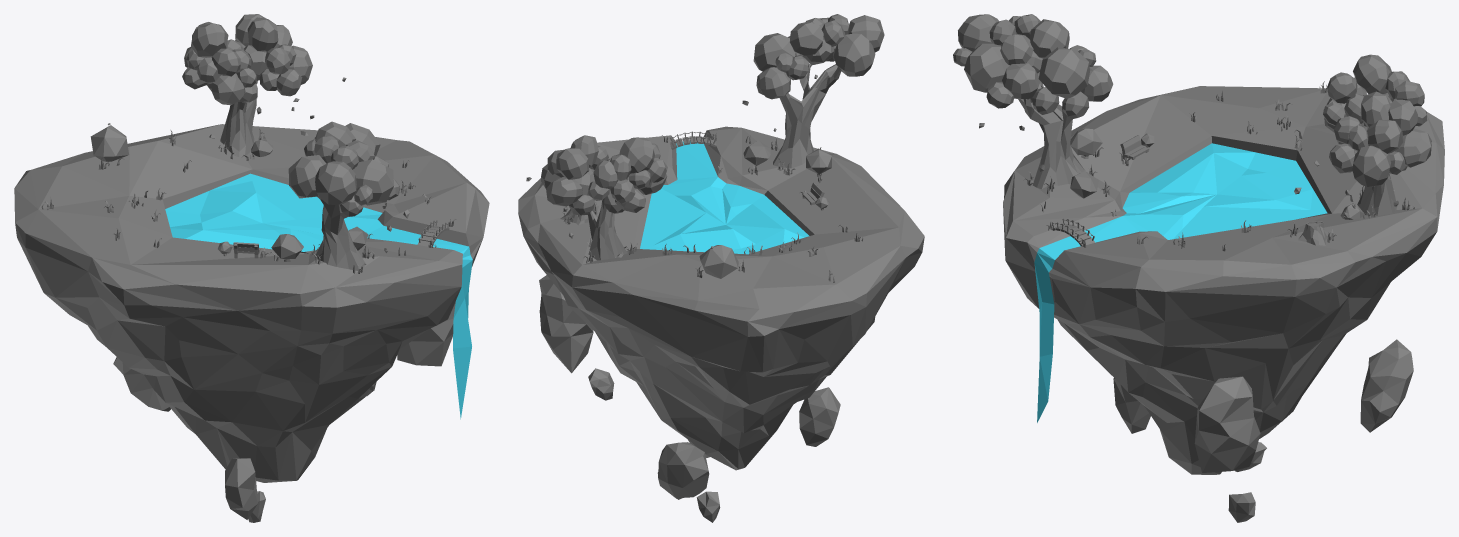
3 views of the same model, side by side, from view 1: azimuth 30°, elevation 25°; view 2: azimuth 150°, elevation 25°; view 3: azimuth 270°, elevation 25° (orthographic). The views are drawn at different scales.
Visible parts, largest first — view 1: polySurface1, polySurface93, tree_lowpoly2:pCylinder2 tree_lowpoly2:group1, pCube2, pCube1, tree_lowpoly2:tree_1 tree_lowpoly2:pCylinder1, tree_lowpoly2:group1 tree_lowpoly2:polySurface65, tree_lowpoly2:group1 tree_lowpoly2:polySurface69, tree_lowpoly2:group1 tree_lowpoly2:polySurface66, pCube3, kust, tree_lowpoly2:tree_1 tree_lowpoly2:polySurface34 (+7 smaller); view 2: polySurface1, polySurface93, pCube2, tree_lowpoly2:pCylinder2 tree_lowpoly2:group1, pCube3, pCube1, tree_lowpoly2:tree_1 tree_lowpoly2:pCylinder1, tree_lowpoly2:group1 tree_lowpoly2:polySurface66, tree_lowpoly2:group1 tree_lowpoly2:polySurface68, kust, tree_lowpoly2:group1 tree_lowpoly2:polySurface82, tree_lowpoly2:tree_1 tree_lowpoly2:polySurface34 (+10 smaller); view 3: polySurface1, polySurface93, pCube2, pCube3, tree_lowpoly2:pCylinder2 tree_lowpoly2:group1, tree_lowpoly2:group1 tree_lowpoly2:polySurface68, tree_lowpoly2:group1 tree_lowpoly2:polySurface69, tree_lowpoly2:tree_1 tree_lowpoly2:polySurface50, tree_lowpoly2:tree_1 tree_lowpoly2:polySurface34, tree_lowpoly2:group1 tree_lowpoly2:polySurface82, pCube1, tree_lowpoly2:group1 tree_lowpoly2:polySurface70 (+14 smaller).
Part boxes in pixels (x1,y1,x2,y2): polySurface1: [14, 124, 489, 482]; polySurface93: [165, 173, 472, 419]; tree_lowpoly2:pCylinder2 tree_lowpoly2:group1: [315, 195, 365, 270]; pCube2: [397, 303, 455, 366]; pCube1: [225, 458, 257, 519]; tree_lowpoly2:tree_1 tree_lowpoly2:pCylinder1: [220, 82, 256, 157]; tree_lowpoly2:group1 tree_lowpoly2:polySurface65: [315, 161, 356, 205]; tree_lowpoly2:group1 tree_lowpoly2:polySurface69: [353, 159, 394, 205]; tree_lowpoly2:group1 tree_lowpoly2:polySurface66: [288, 155, 326, 198]; pCube3: [113, 357, 170, 411]; kust: [90, 125, 129, 161]; tree_lowpoly2:tree_1 tree_lowpoly2:polySurface34: [191, 23, 228, 57]; polySurface1: [518, 126, 924, 470]; polySurface93: [640, 141, 809, 254]; pCube2: [539, 275, 593, 373]; tree_lowpoly2:pCylinder2 tree_lowpoly2:group1: [773, 63, 841, 168]; pCube3: [657, 442, 709, 499]; pCube1: [799, 387, 840, 446]; tree_lowpoly2:tree_1 tree_lowpoly2:pCylinder1: [588, 198, 627, 260]; tree_lowpoly2:group1 tree_lowpoly2:polySurface66: [833, 33, 875, 76]; tree_lowpoly2:group1 tree_lowpoly2:polySurface68: [753, 33, 795, 71]; kust: [699, 245, 738, 278]; tree_lowpoly2:group1 tree_lowpoly2:polySurface82: [789, 21, 823, 55]; tree_lowpoly2:tree_1 tree_lowpoly2:polySurface34: [619, 137, 654, 173]; polySurface1: [1003, 86, 1444, 474]; polySurface93: [1034, 143, 1327, 422]; pCube2: [1194, 376, 1260, 472]; pCube3: [1360, 339, 1413, 432]; tree_lowpoly2:pCylinder2 tree_lowpoly2:group1: [1018, 72, 1085, 188]; tree_lowpoly2:group1 tree_lowpoly2:polySurface68: [1038, 47, 1089, 98]; tree_lowpoly2:group1 tree_lowpoly2:polySurface69: [964, 43, 1009, 92]; tree_lowpoly2:tree_1 tree_lowpoly2:polySurface50: [1352, 145, 1390, 187]; tree_lowpoly2:tree_1 tree_lowpoly2:polySurface34: [1353, 54, 1391, 94]; tree_lowpoly2:group1 tree_lowpoly2:polySurface82: [1029, 19, 1069, 58]; pCube1: [1113, 378, 1150, 433]; tree_lowpoly2:group1 tree_lowpoly2:polySurface70: [1002, 63, 1040, 99].
Bounding box in the file's own units: 845 × 971 × 873.
